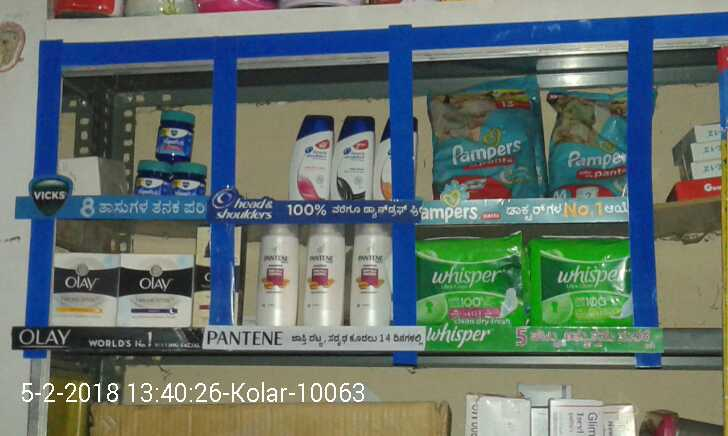beauty: (346, 221, 398, 332), (116, 256, 198, 326), (283, 110, 333, 209), (52, 252, 118, 324), (332, 102, 376, 202), (303, 225, 343, 327), (254, 218, 292, 325)
pharmacy: (422, 84, 542, 198), (545, 89, 627, 202), (420, 243, 529, 323), (537, 242, 635, 325), (149, 107, 196, 165), (125, 159, 170, 202), (174, 163, 203, 199)
